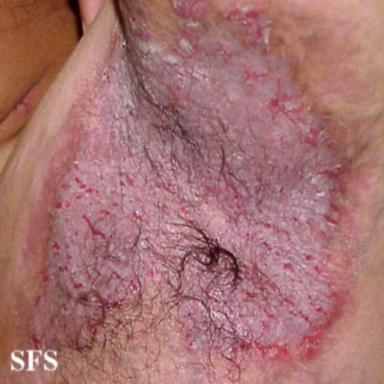Hailey-Hailey-Disease: (31, 2, 349, 365)
